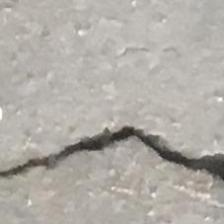Crack: (0, 125, 224, 198)
